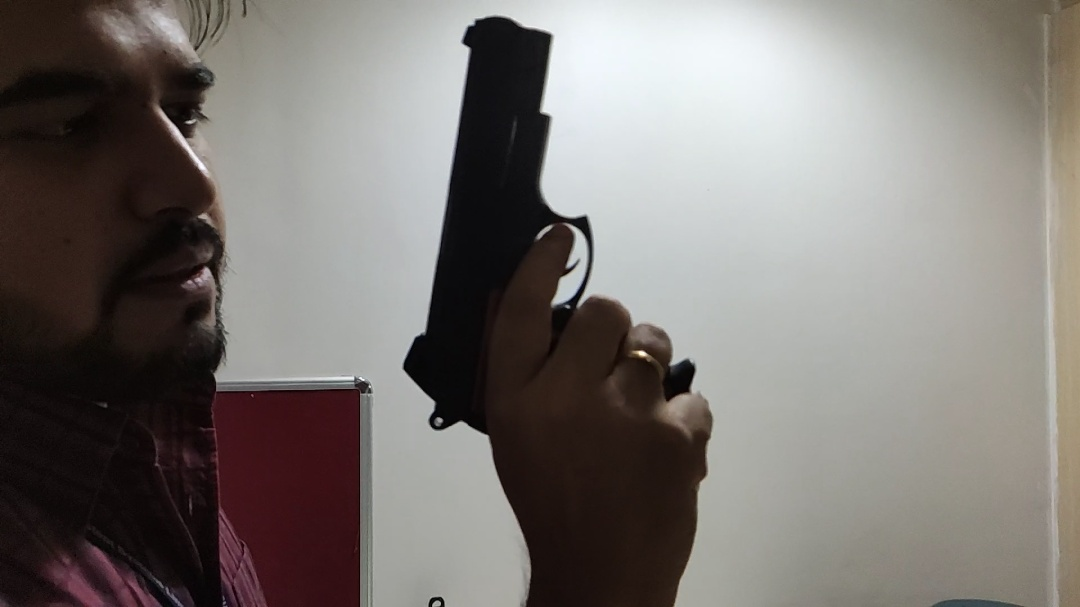gun: (400, 13, 698, 439)
